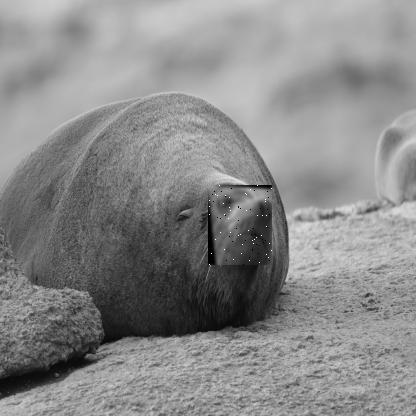face: (208, 185, 273, 266)
